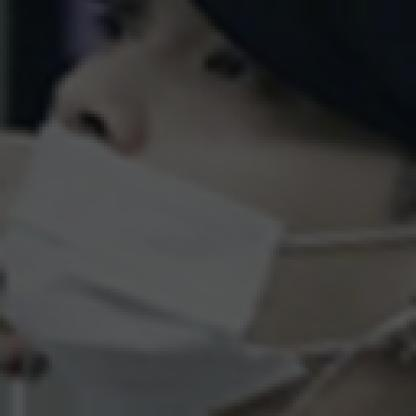mask_weared_incorrect: (0, 0, 402, 395)
